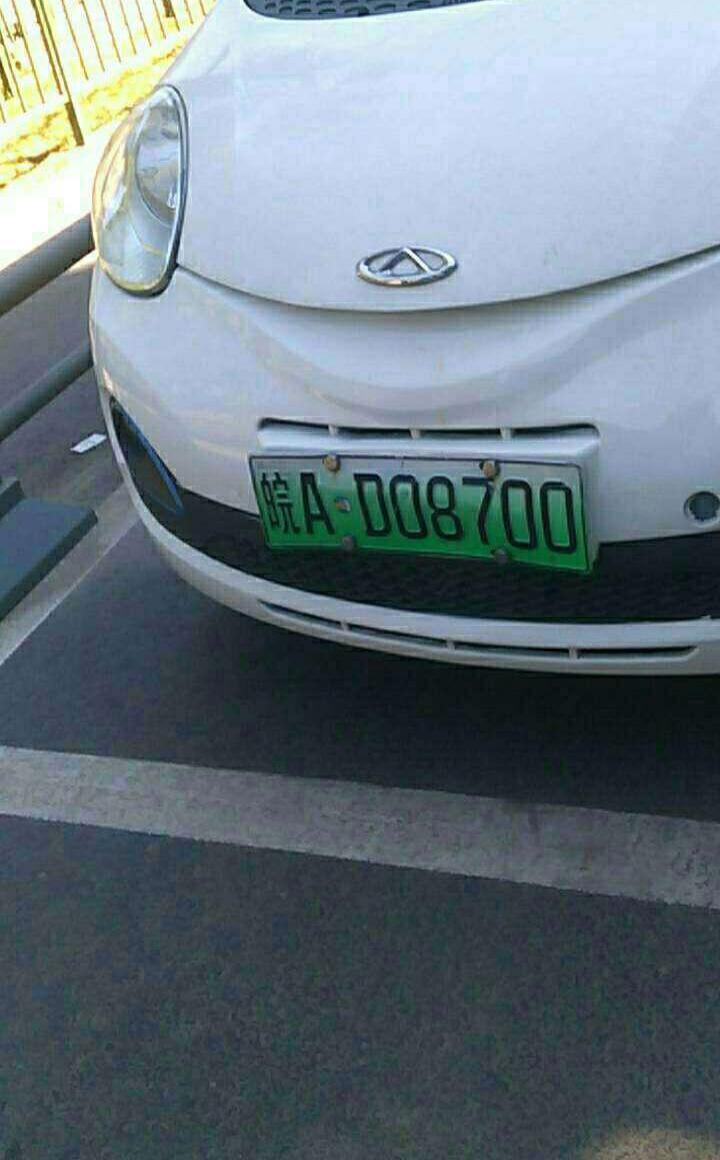car_id: (249, 457, 581, 562)
